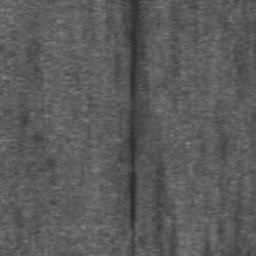Scratches: (124, 0, 142, 256)
